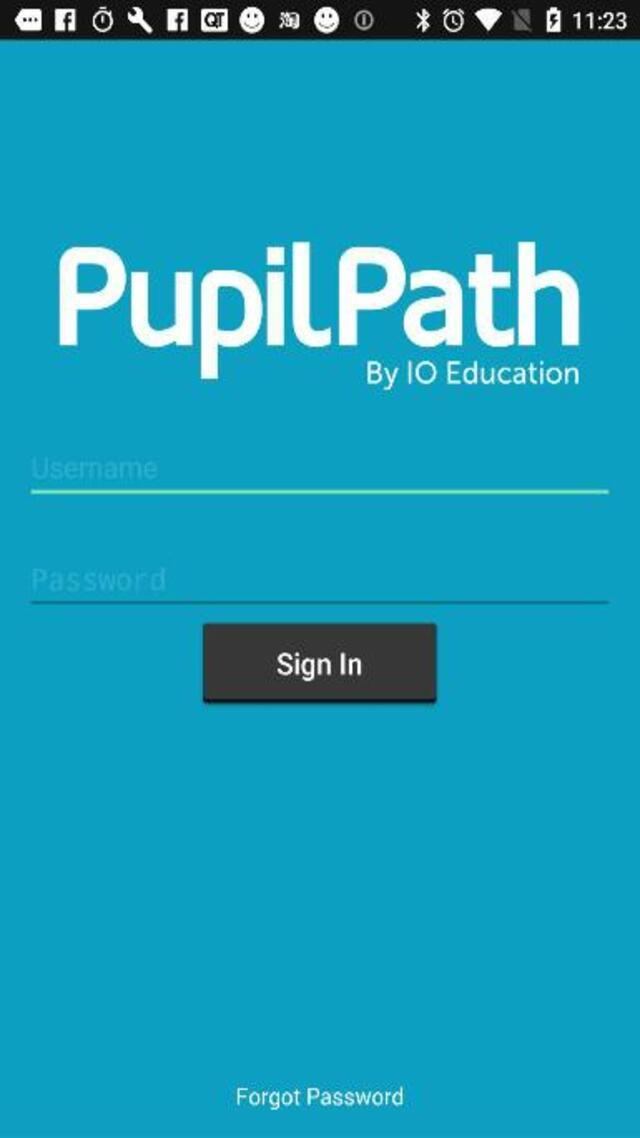Image: (46, 229, 594, 391)
Text: (236, 1086, 402, 1108), (274, 650, 366, 684), (33, 568, 164, 591), (32, 456, 158, 479)
TextButton: (202, 623, 436, 703)
